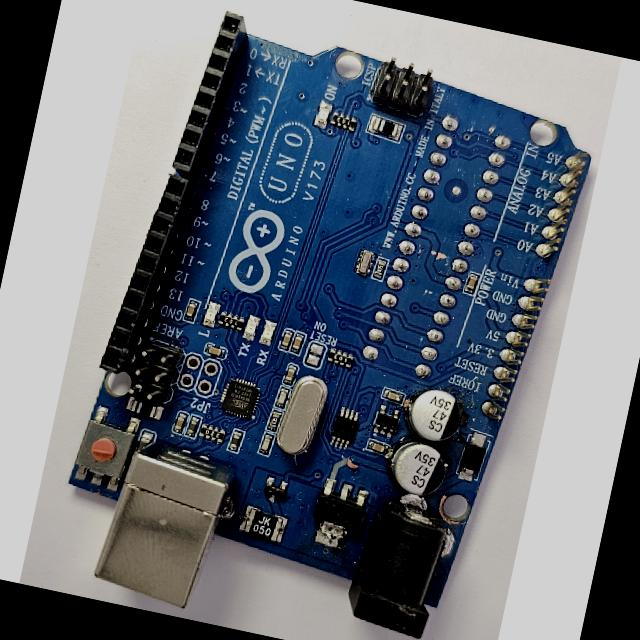missing_analog_pins: (477, 143, 594, 427)
missing_atmega: (354, 107, 519, 386)
